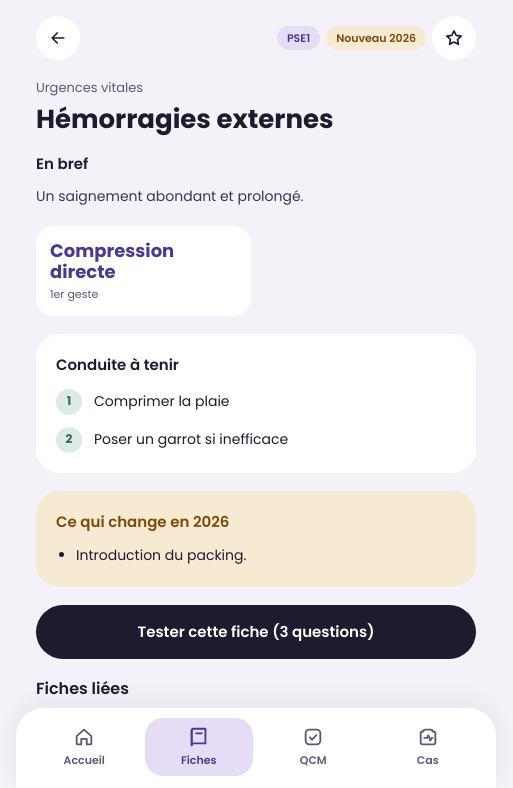
Test: QCM — entraînement › une question à choix multiple exige toutes les bonnes réponses
The width and height of the screenshot is (513, 788).
Click the button "Tester cette fiche (3 questions)": (256, 632) [36,605,476,659]
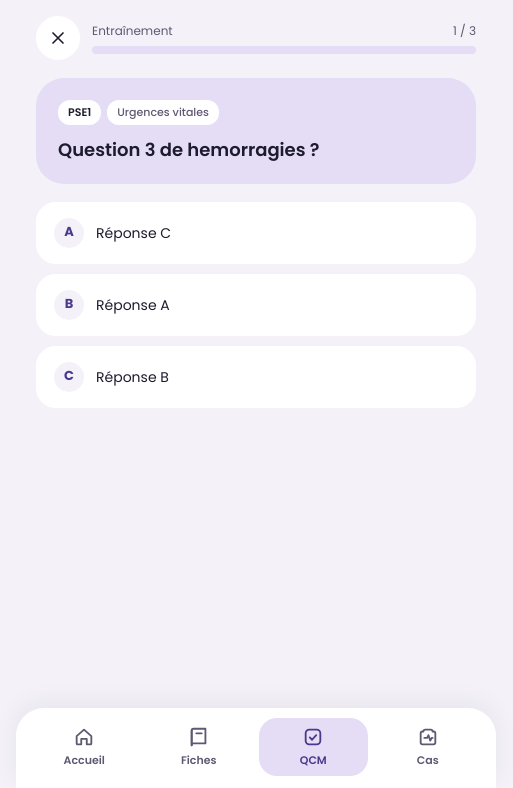
Click the button "B Réponse A": (133, 305) [36,274,476,336]
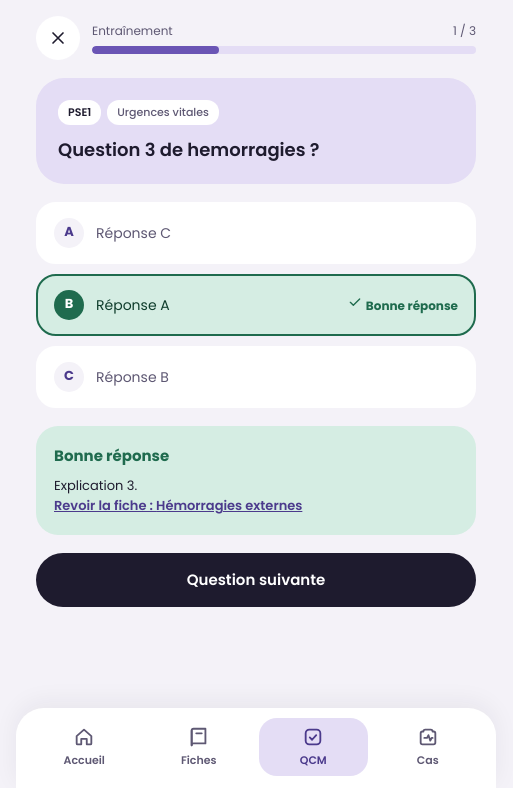
Click the button "Question suivante": (256, 580) [36,553,476,607]
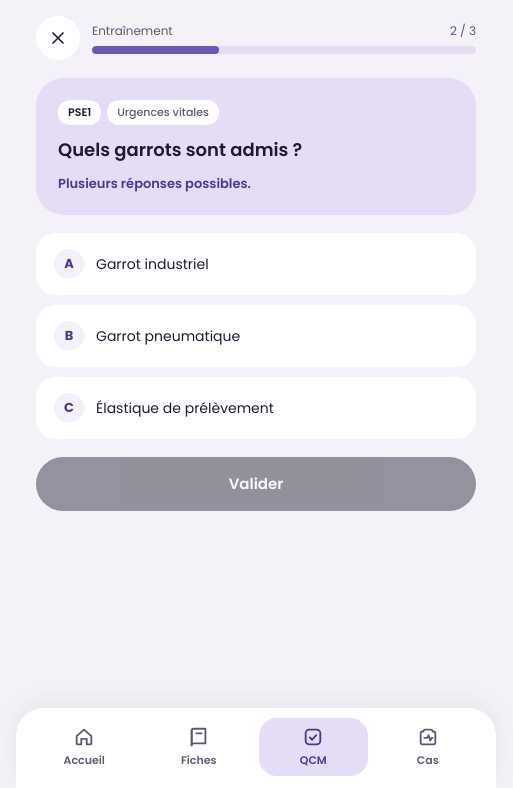
Now the text "Plusieurs réponses possibles." is shown, box [58,174,251,193]
Now the button "Valider" is disabled, box [36,457,476,511]
Click the button "A Garrot industriel": (152, 264) [36,233,476,295]
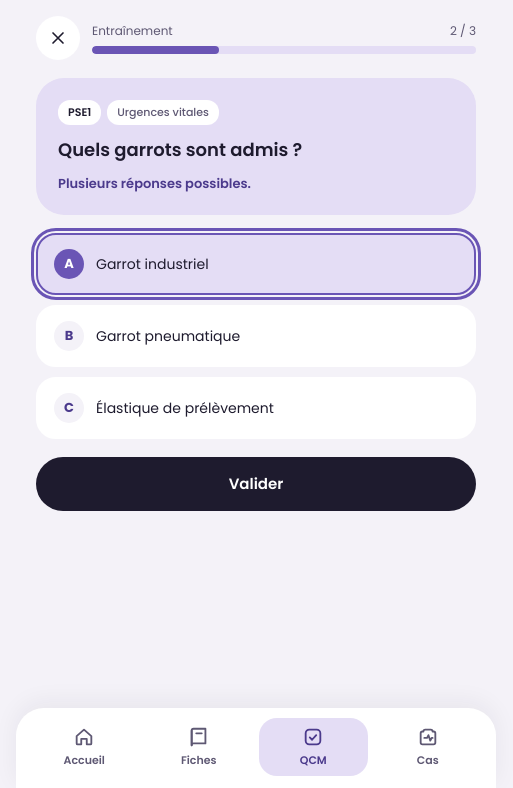
Now the button "A Garrot industriel" is pressed, box [36,233,476,295]
Click the button "Valider": (256, 484) [36,457,476,511]
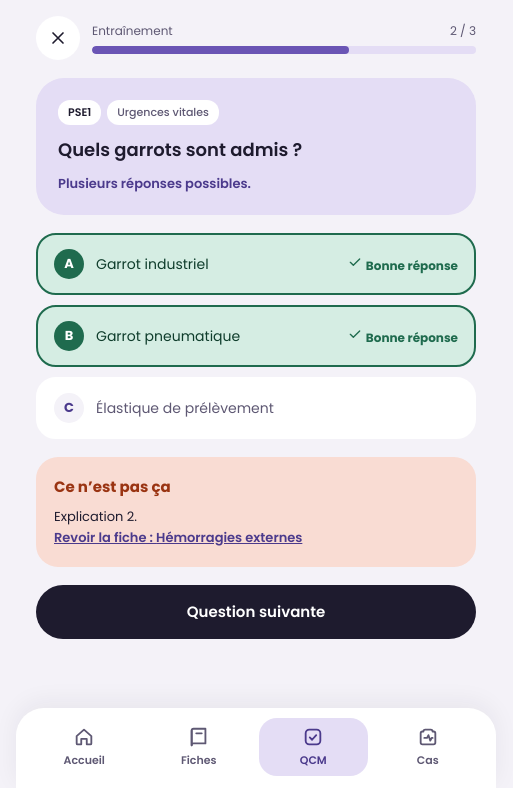
Now the message shows "Ce n’est pas ça", box [54,476,171,497]
Now the button "B Garrot pneumatique Bonne réponse" is shown, box [36,305,476,367]
